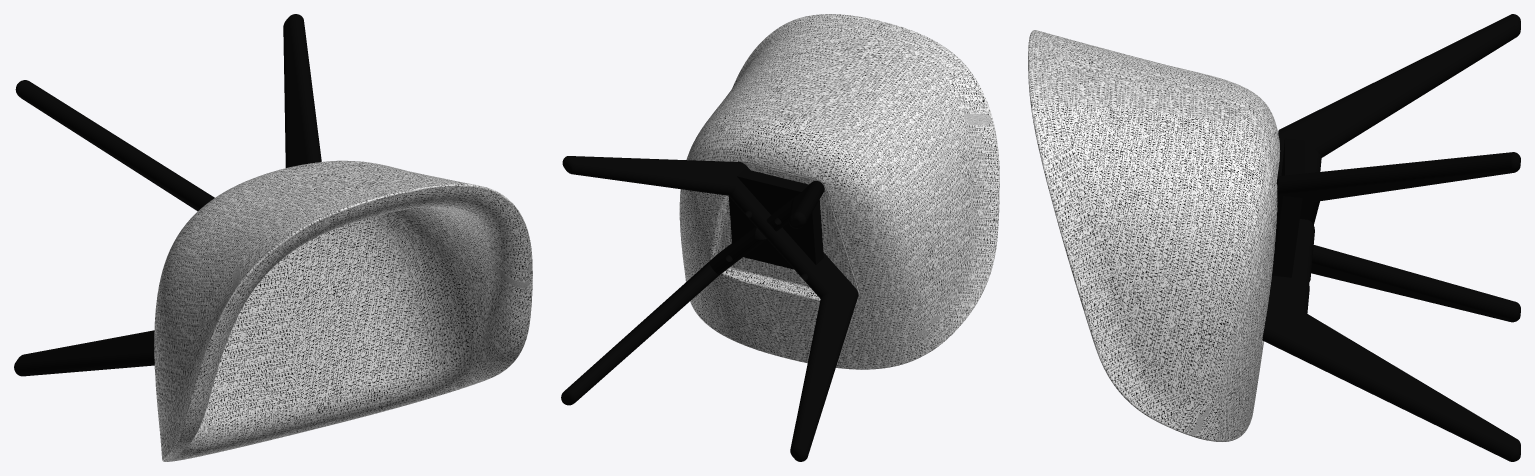
Rendered from Chair.glb.
3 views of the same model, side by side, from view 1: azimuth 30°, elevation 25°; view 2: azimuth 150°, elevation 25°; view 3: azimuth 270°, elevation 25° (orthographic). The views are drawn at different scales.
Parts seen in each view (by area): view 1: L_6c20b827_d3e5_4778_89d7_593aca5f2675_C1_I5, L_d67cb3c8_23cf_4cc5_8170_7e60fe5c7da2_I6, L_e0c9e084_9fa3_4936_96bd_41c59b18a096_I7; view 2: L_6c20b827_d3e5_4778_89d7_593aca5f2675_C1_I5, L_d67cb3c8_23cf_4cc5_8170_7e60fe5c7da2_I6, L_e0c9e084_9fa3_4936_96bd_41c59b18a096_I7, L_30e4f83c_cd26_4e79_8d15_61bfc84081b9_I1, L_673f1b20_d789_44bc_b2c5_22e873e20ea2_I4, L_5af0c984_ac3e_49b5_bafb_e0939ea540e4_I3, L_3b9c5d4f_cd8e_4662_b239_4c05d171d158_I2; view 3: L_6c20b827_d3e5_4778_89d7_593aca5f2675_C1_I5, L_e0c9e084_9fa3_4936_96bd_41c59b18a096_I7, L_d67cb3c8_23cf_4cc5_8170_7e60fe5c7da2_I6, L_3b9c5d4f_cd8e_4662_b239_4c05d171d158_I2, L_30e4f83c_cd26_4e79_8d15_61bfc84081b9_I1.
Part boxes in pixels (x1,y1,x2,y2): L_6c20b827_d3e5_4778_89d7_593aca5f2675_C1_I5: [154, 160, 532, 461]; L_d67cb3c8_23cf_4cc5_8170_7e60fe5c7da2_I6: [14, 14, 321, 376]; L_e0c9e084_9fa3_4936_96bd_41c59b18a096_I7: [15, 80, 214, 211]; L_6c20b827_d3e5_4778_89d7_593aca5f2675_C1_I5: [679, 14, 999, 369]; L_d67cb3c8_23cf_4cc5_8170_7e60fe5c7da2_I6: [562, 156, 858, 461]; L_e0c9e084_9fa3_4936_96bd_41c59b18a096_I7: [561, 181, 824, 405]; L_30e4f83c_cd26_4e79_8d15_61bfc84081b9_I1: [737, 169, 808, 214]; L_673f1b20_d789_44bc_b2c5_22e873e20ea2_I4: [782, 200, 823, 264]; L_5af0c984_ac3e_49b5_bafb_e0939ea540e4_I3: [743, 239, 793, 269]; L_3b9c5d4f_cd8e_4662_b239_4c05d171d158_I2: [728, 196, 755, 244]; L_6c20b827_d3e5_4778_89d7_593aca5f2675_C1_I5: [1028, 30, 1280, 441]; L_e0c9e084_9fa3_4936_96bd_41c59b18a096_I7: [1262, 14, 1520, 461]; L_d67cb3c8_23cf_4cc5_8170_7e60fe5c7da2_I6: [1277, 152, 1520, 322]; L_3b9c5d4f_cd8e_4662_b239_4c05d171d158_I2: [1272, 196, 1302, 277]; L_30e4f83c_cd26_4e79_8d15_61bfc84081b9_I1: [1281, 138, 1304, 175].
Bounding box in the file's own units: 636 × 570 × 759.
Materials: 7 (1 with a texture image).
